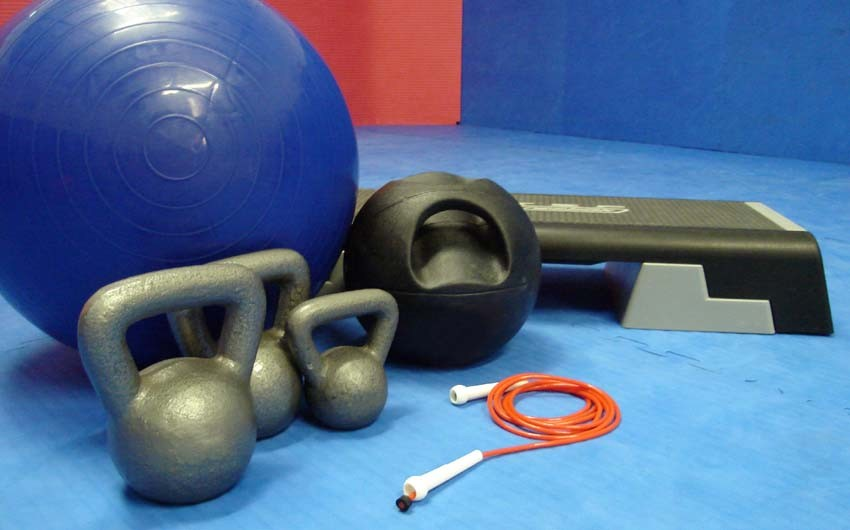blue ball: (4, 1, 359, 353)
